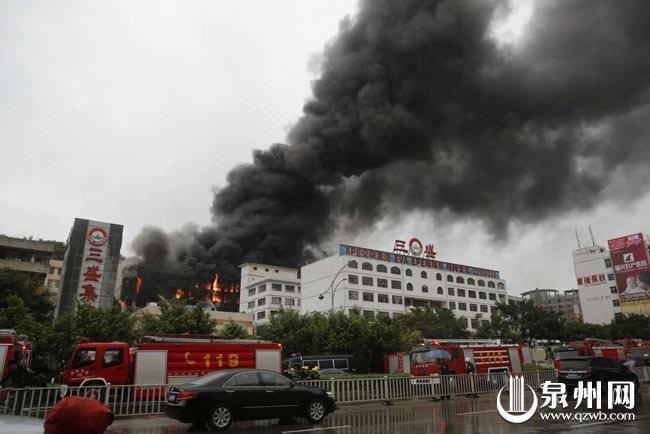fire: (207, 273, 221, 299), (133, 274, 144, 292)
